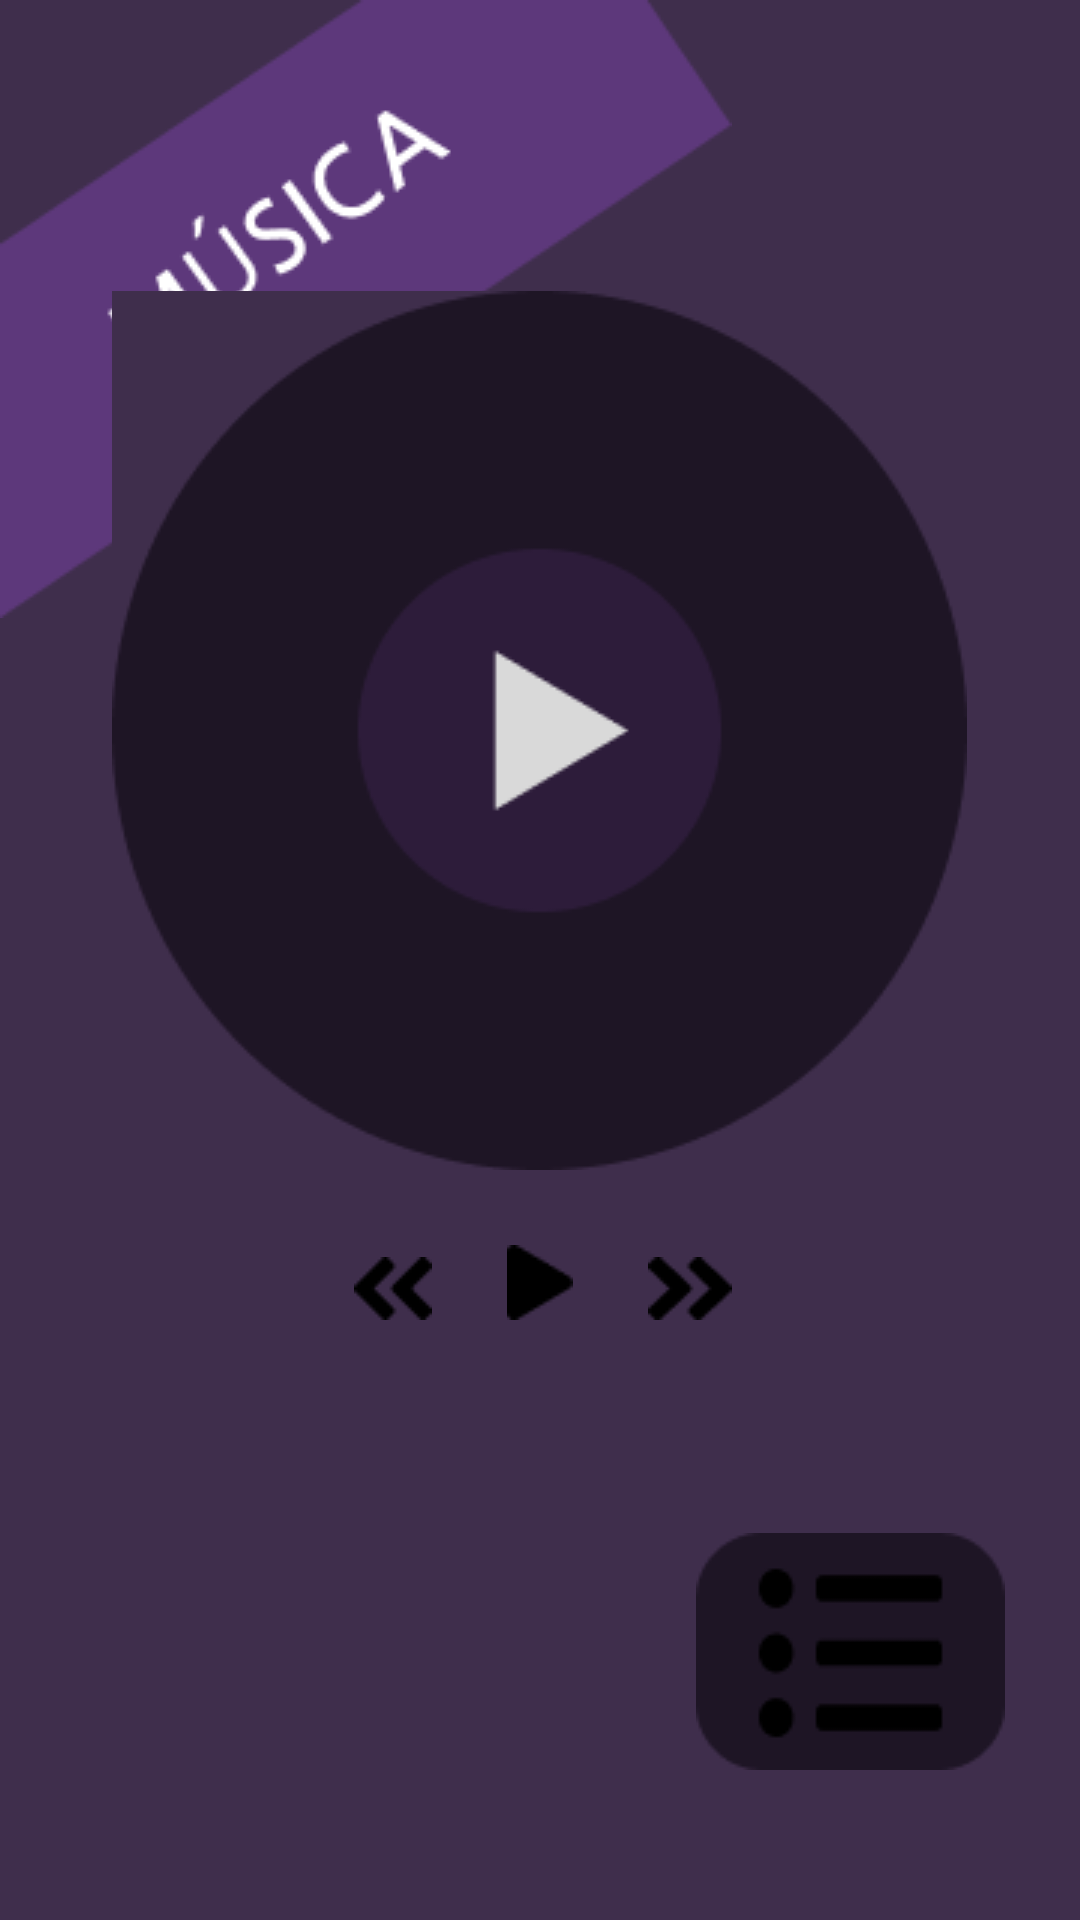

Icon click points for this 1080px x 1920px phone screenshot, format (x=x, y=y):
adelantar: (x=690, y=1288)
continuar: (x=540, y=1282)
desplegablemusic: (x=850, y=1651)
retrasar: (x=393, y=1288)
